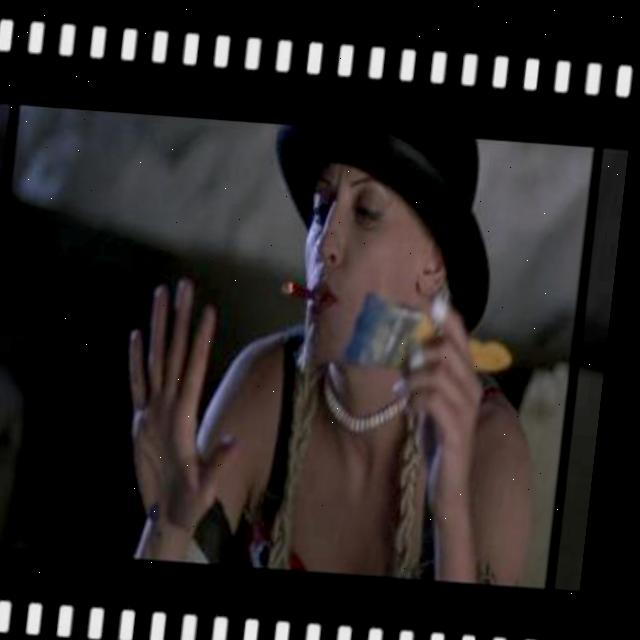cigarette: (286, 275, 332, 298)
